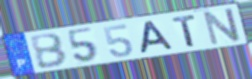5: (65, 25, 101, 64), (101, 23, 134, 58)
A: (139, 19, 176, 56)
B: (28, 32, 70, 71)
N: (201, 6, 243, 47)
T: (171, 14, 199, 48)
